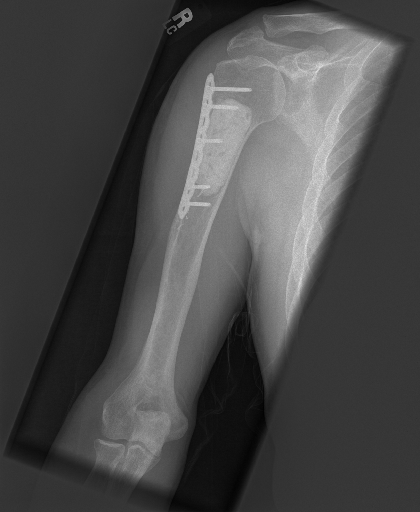implant: (178, 69, 255, 217)
